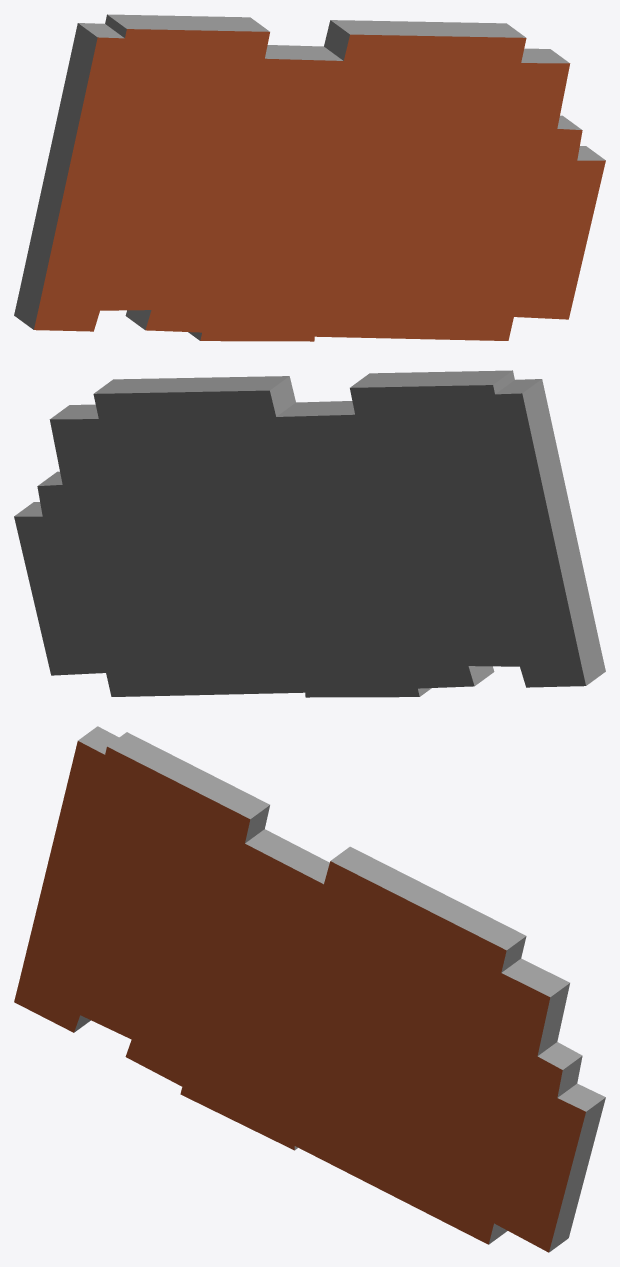
The model's file is construction_2988_assumed_A_Casa_h6m.obj.
3 views of the same model, one above another, from view 1: azimuth 30°, elevation 25°; view 2: azimuth 150°, elevation 25°; view 3: azimuth 330°, elevation 25° (orthographic).
Parts seen in each view (by area): view 1: construction_2988_assumed_A_Casa; view 2: construction_2988_assumed_A_Casa; view 3: construction_2988_assumed_A_Casa.
Part boxes in pixels (bbox=[...]): construction_2988_assumed_A_Casa: bbox=[14, 14, 605, 341]; construction_2988_assumed_A_Casa: bbox=[14, 370, 605, 697]; construction_2988_assumed_A_Casa: bbox=[14, 726, 605, 1252].
Size of the model in its own units: 99.81 by 67.55 by 6.
